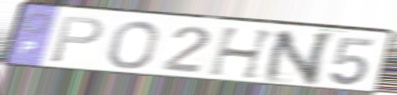2: (160, 25, 212, 75)
5: (327, 35, 377, 87)
H: (206, 26, 280, 81)
N: (259, 30, 338, 86)
O: (106, 19, 161, 70)
P: (48, 15, 107, 65)
